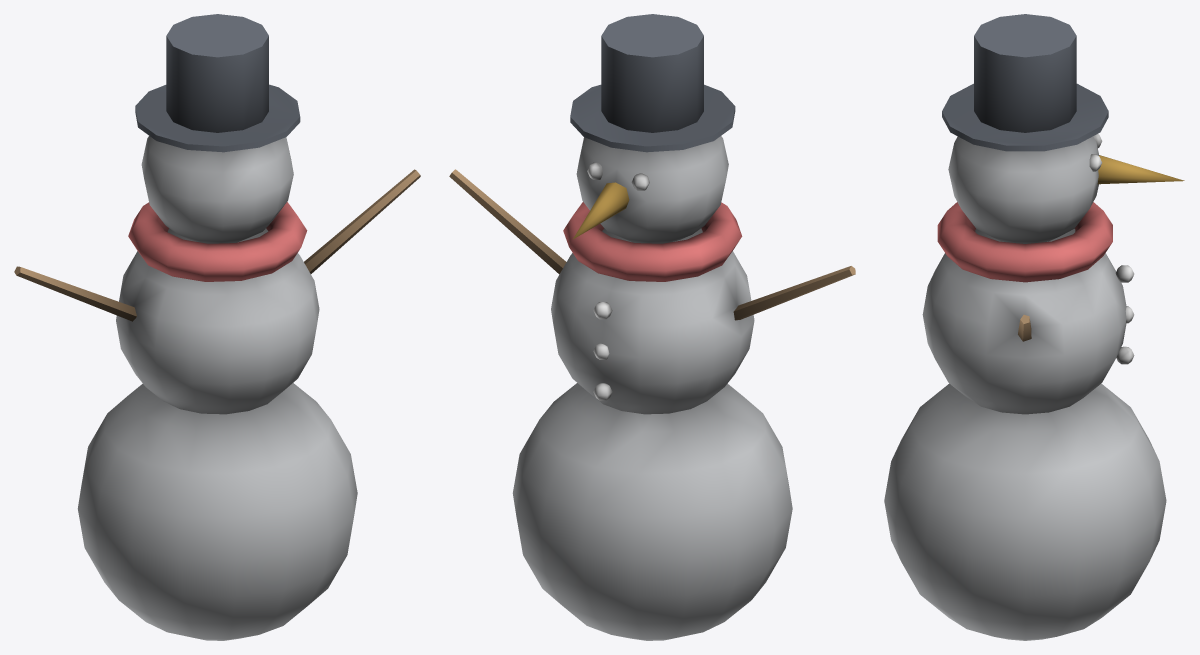
File: Winter_Snowman1.fbx
3 renders of one model, left to right at view 1: azimuth 30°, elevation 25°; view 2: azimuth 150°, elevation 25°; view 3: azimuth 270°, elevation 25°, orthographic.
Parts seen in each view (by area): view 1: Winter_Snowman1; view 2: Winter_Snowman1; view 3: Winter_Snowman1.
Boxes of the visible parts, x1=… form: Winter_Snowman1: x1=14, y1=14, x2=420, y2=640; Winter_Snowman1: x1=449, y1=14, x2=855, y2=640; Winter_Snowman1: x1=884, y1=14, x2=1184, y2=640.
Size of the model in its own units: 2.18 by 3.06 by 1.41.
